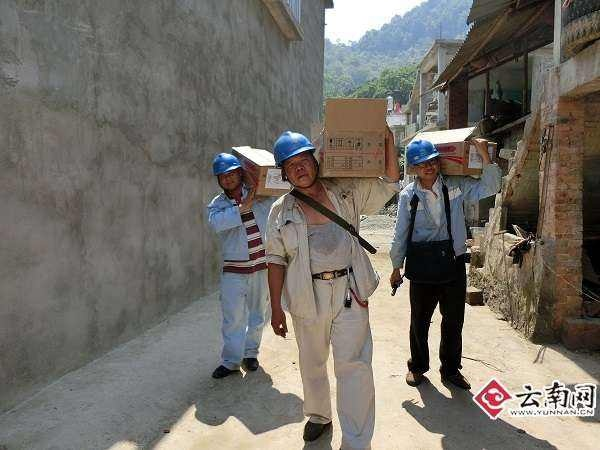blue: (271, 126, 323, 191), (401, 139, 443, 184), (211, 150, 246, 192)
